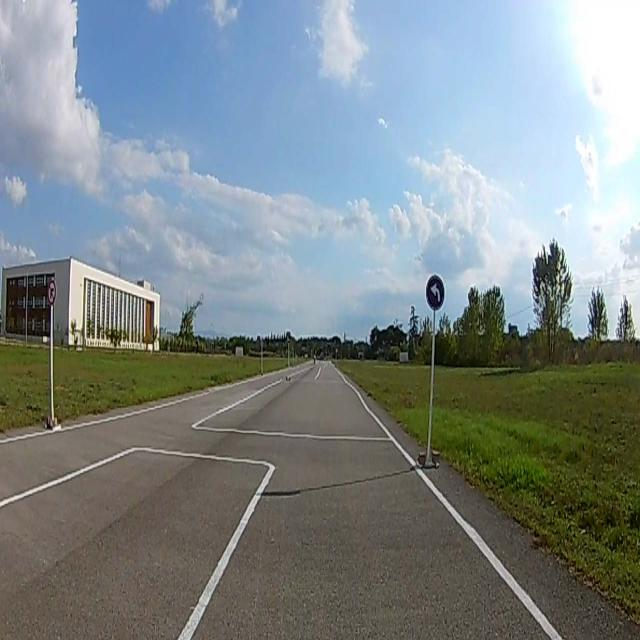sagadonulmez: (48, 280, 56, 304)
sol: (426, 276, 444, 310)
